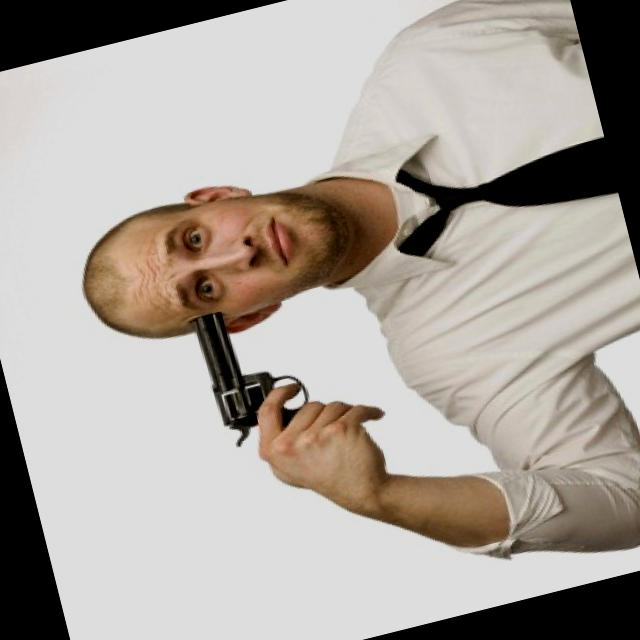handgun: (182, 296, 318, 457)
